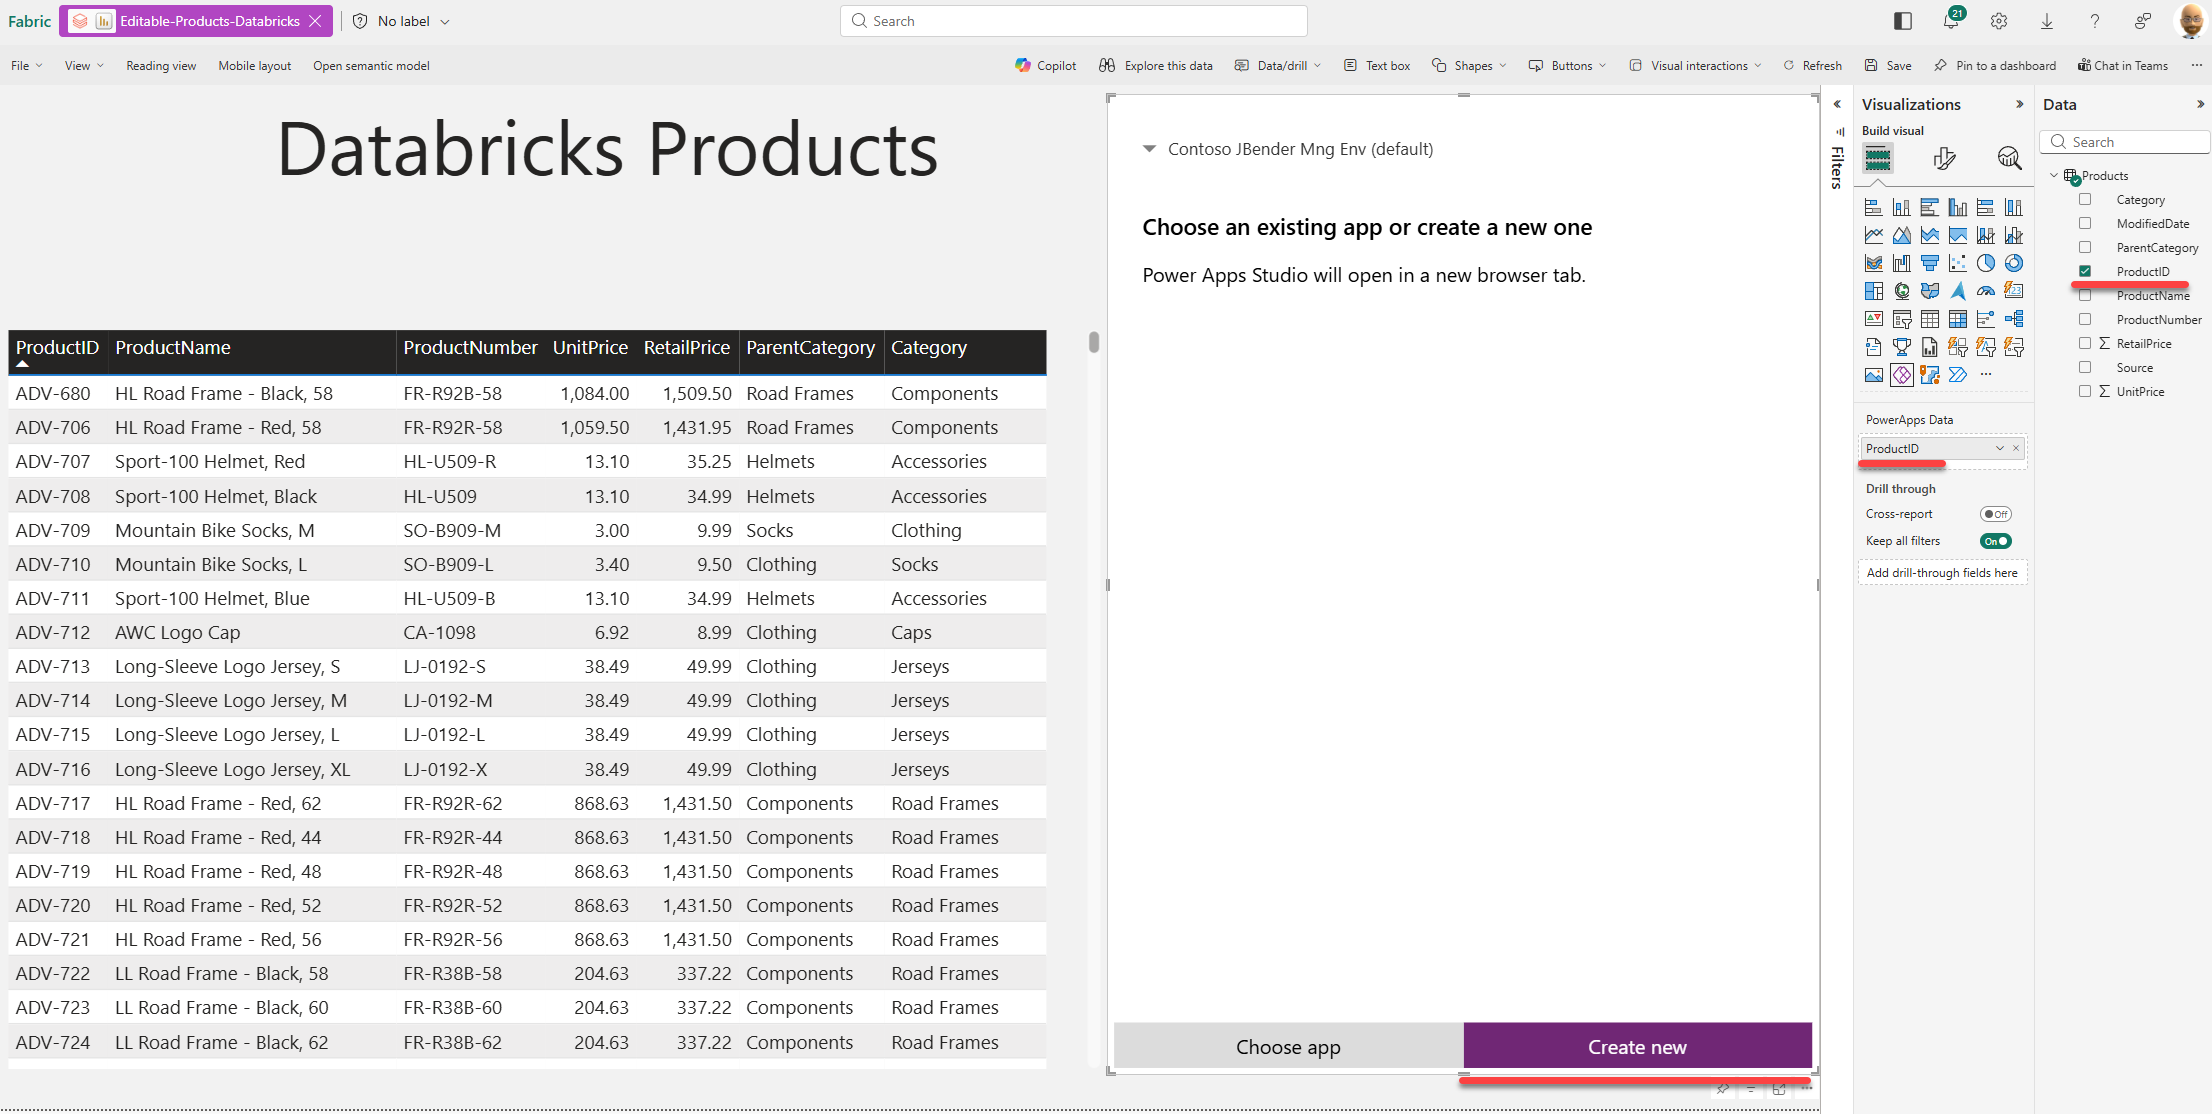

What the dashboard file says about the page in this screenshot:
{"tool":"powerbi","page":{"name":"Products","canvas":[1280,720],"ordinal":0},"visuals":[{"type":"tableEx","fields":{"Values":["Products.ProductID","Products.ProductName","Products.ProductNumber","Products.UnitPrice","Products.RetailPrice","Products.ParentCategory","Products.Category"]},"box":[0,167.3,779,529.4],"z":0},{"type":"textbox","box":[0,0,854.4,94.6],"z":1000}]}

Visuals, with their boxes on the page's 1280x720 design canvas (x1, y1, x2, y2). These are canvas units, not pixel positions in the 2212x1114 screenshot, which may show the page scaled, cropped or inside an application window:
tableEx - Products.ProductID x Products.ProductName: (0,167,779,697)
textbox: (0,0,854,95)
